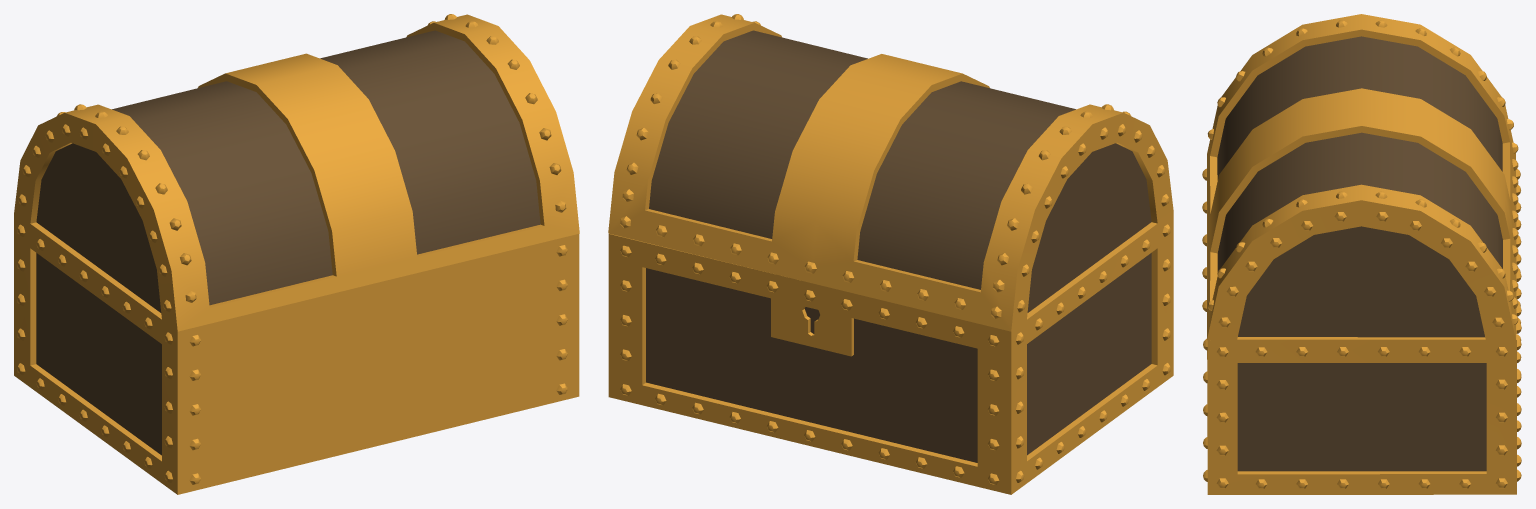
Rendered from Chess.fbx.
3 renders of one model, left to right at view 1: azimuth 30°, elevation 25°; view 2: azimuth 150°, elevation 25°; view 3: azimuth 270°, elevation 25°, orthographic. The views are drawn at different scales.
Parts seen in each view (by area): view 1: Top, Bot; view 2: Top, Bot; view 3: Top, Bot.
Boxes of the visible parts, x1,y1,x2,y2 form: Top: (14, 14, 579, 331); Bot: (14, 212, 579, 494); Top: (608, 14, 1173, 331); Bot: (608, 212, 1173, 494); Top: (1207, 14, 1518, 340); Bot: (1202, 168, 1521, 494).
Bounding box in the file's own units: 0.9748 × 0.7061 × 0.6917.
